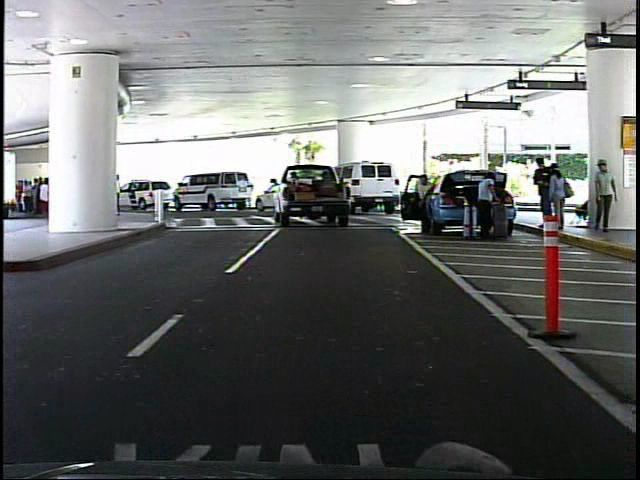person: (467, 168, 502, 244), (546, 158, 576, 238), (588, 157, 618, 236), (407, 165, 440, 236)
